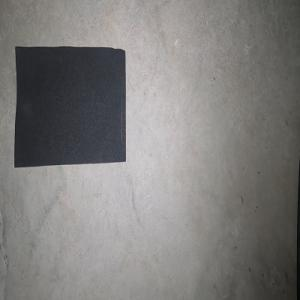PaintChip: (14, 46, 126, 167)
